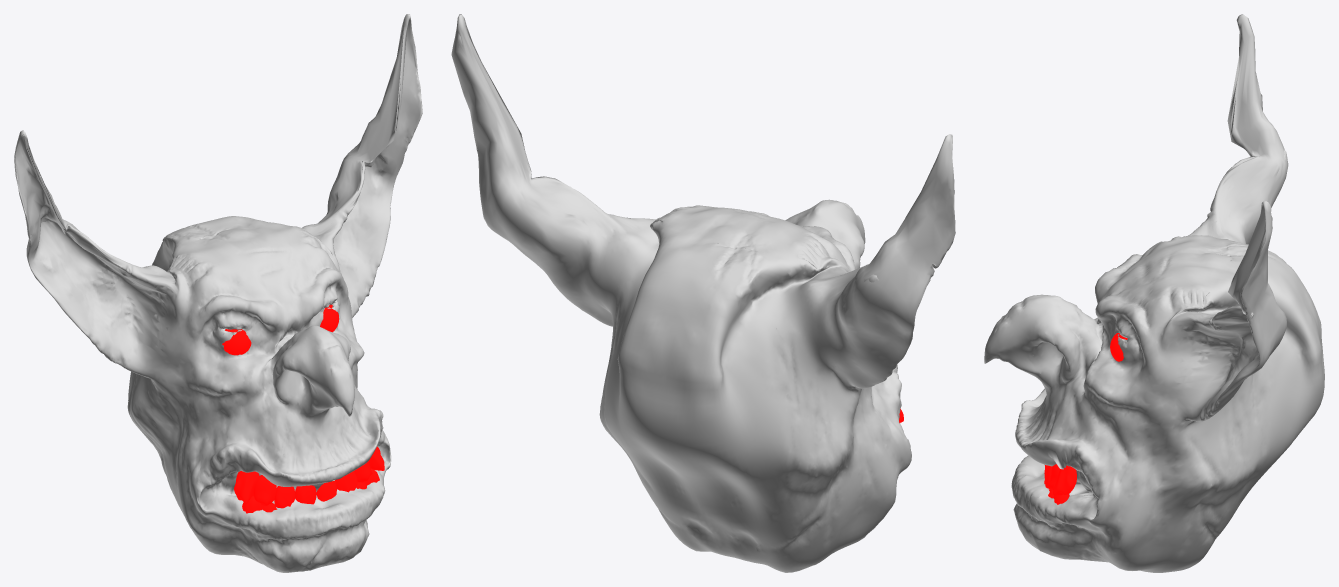
Rendered from Cabeza Duende 1.9.gltf.
The picture shows the model from 3 angles, left to right: view 1: azimuth 30°, elevation 25°; view 2: azimuth 150°, elevation 25°; view 3: azimuth 270°, elevation 25°; orthographic projection. The views are drawn at different scales.
Parts seen in each view (by area): view 1: Cabeza Duende Sculp; view 2: Cabeza Duende Sculp; view 3: Cabeza Duende Sculp.
Part boxes in pixels (x1,y1,x2,y2): Cabeza Duende Sculp: (14, 14, 422, 572); Cabeza Duende Sculp: (451, 14, 955, 572); Cabeza Duende Sculp: (984, 14, 1324, 572).
Bounding box in the file's own units: 1.45 × 1.49 × 1.02.
